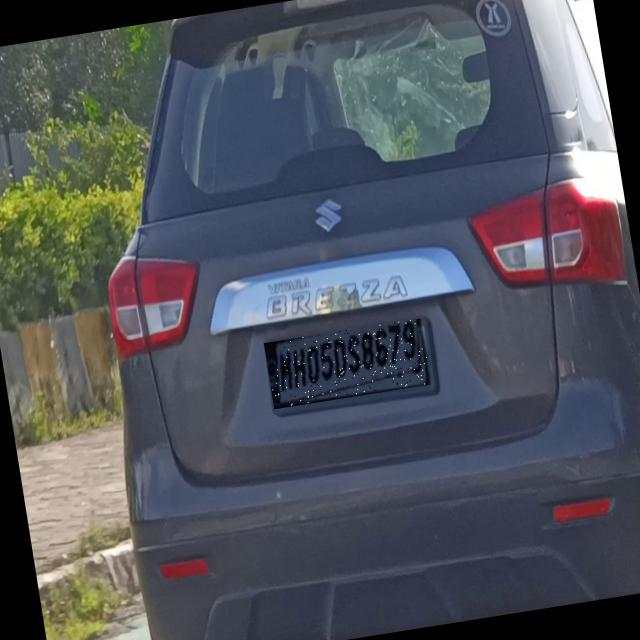Plate: (265, 319, 434, 410)
